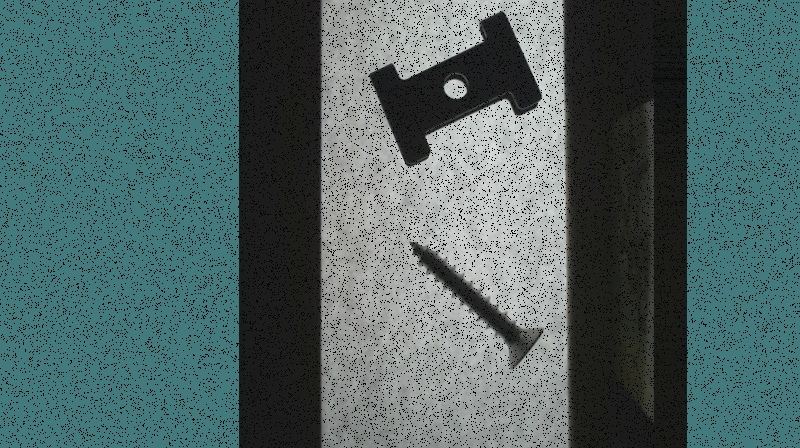O002: (368, 8, 541, 170)
S001: (406, 235, 547, 371)
